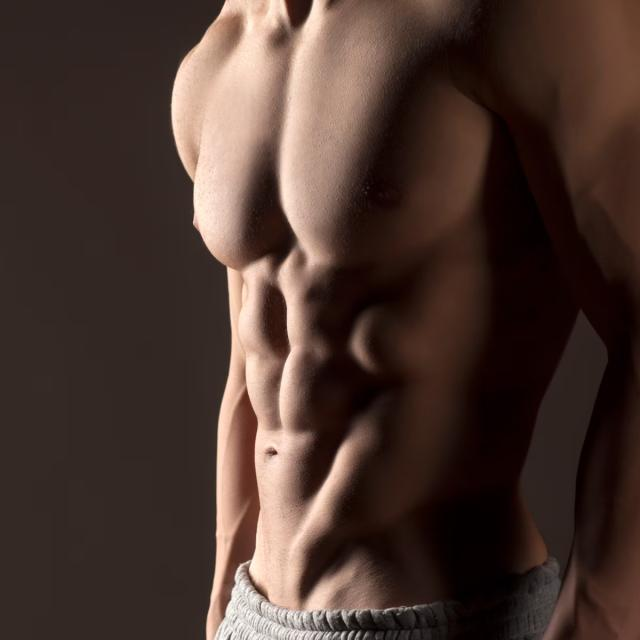piel: (164, 0, 639, 639)
